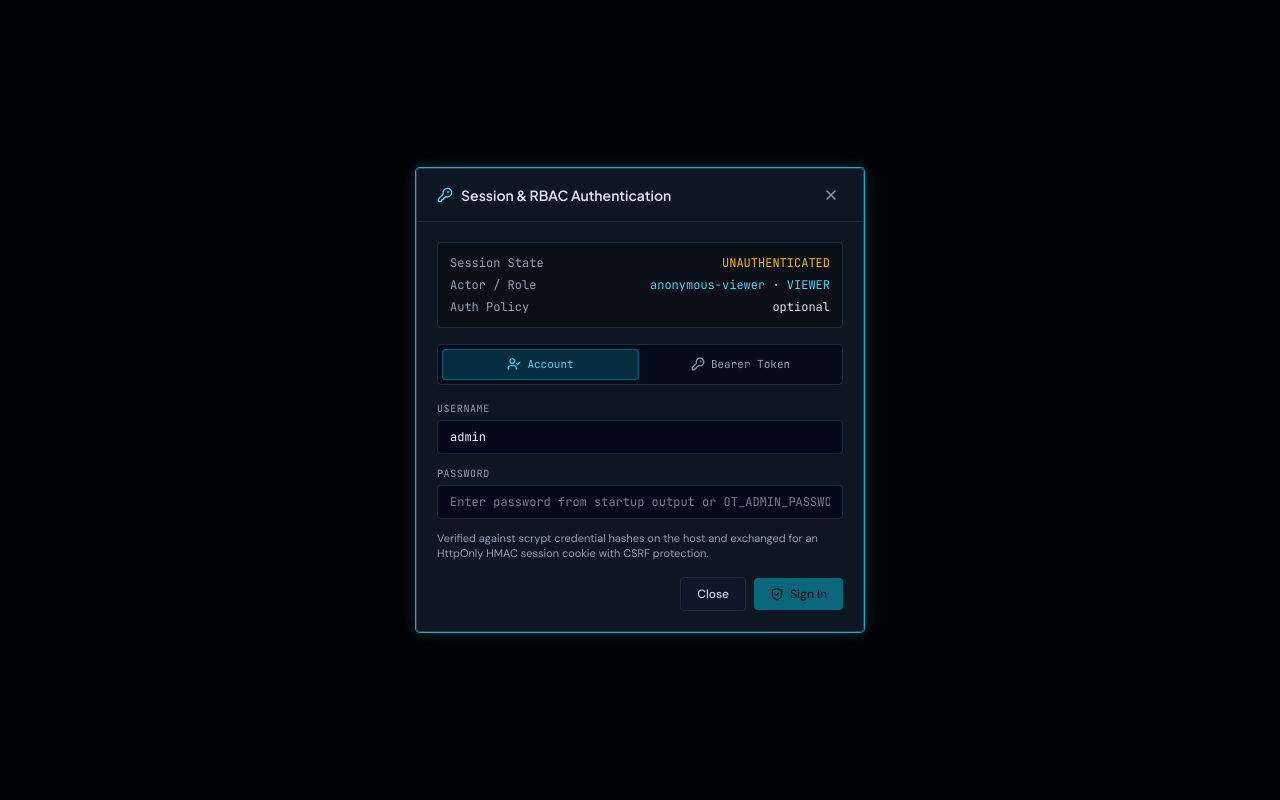
Frontend Component Verification › renders AuthModal with Account credentials and Bearer Token sign-in options
This screenshot has width=1280, height=800.
Later steps or results of the test are not shown.
Step 1. Type "pass-123" into the password field labelled "Password" → {"x": 640, "y": 502}, box x1=437 y1=485 x2=843 y2=519
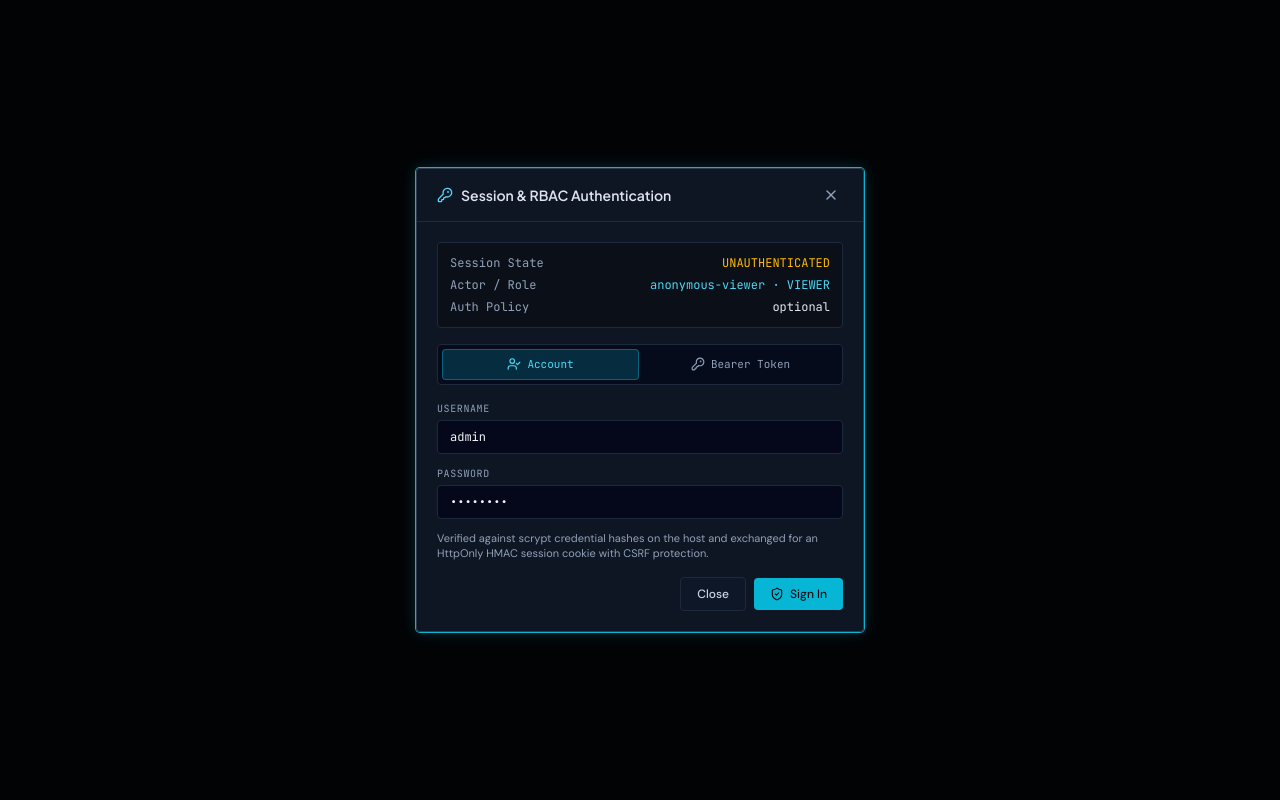
Step 2. Click the button "Sign In" → {"x": 798, "y": 594}, box x1=754 y1=578 x2=843 y2=610
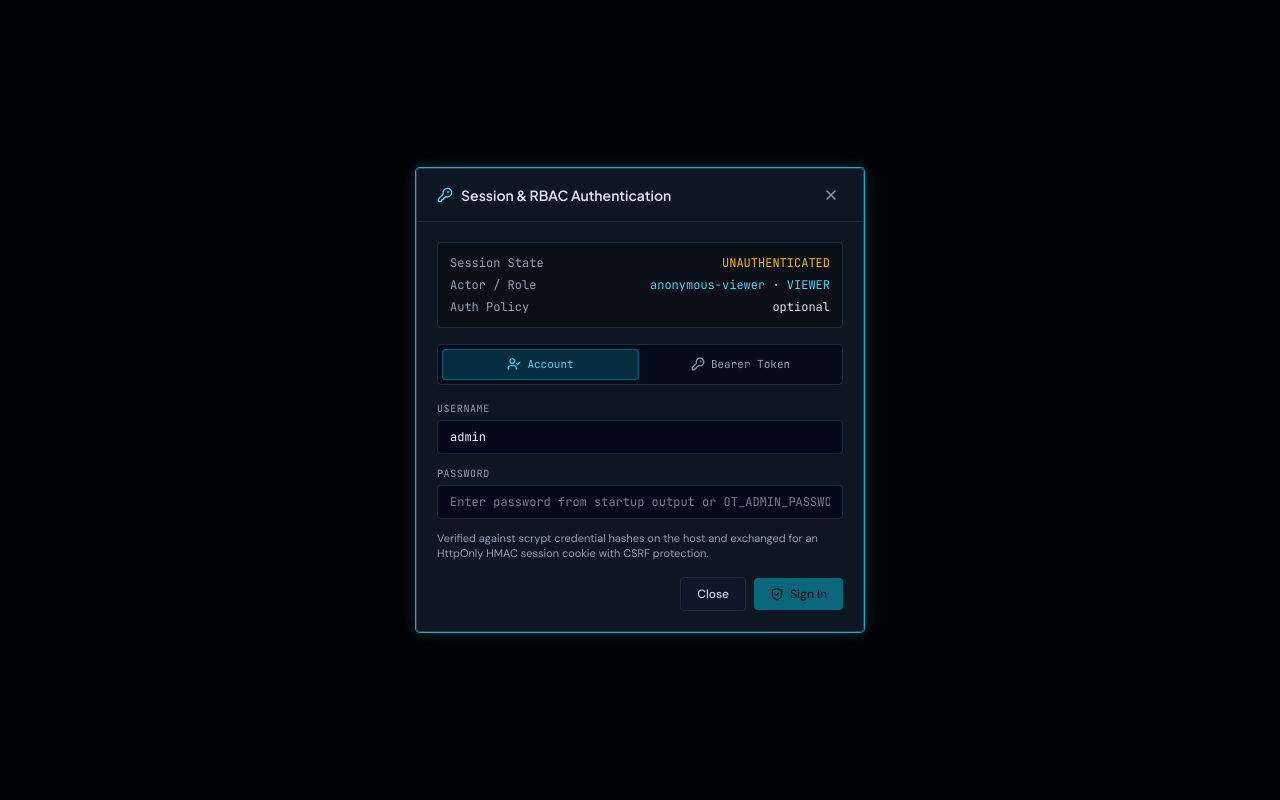
Step 3. Click the button "Bearer Token" → {"x": 740, "y": 364}, box x1=643 y1=350 x2=838 y2=379
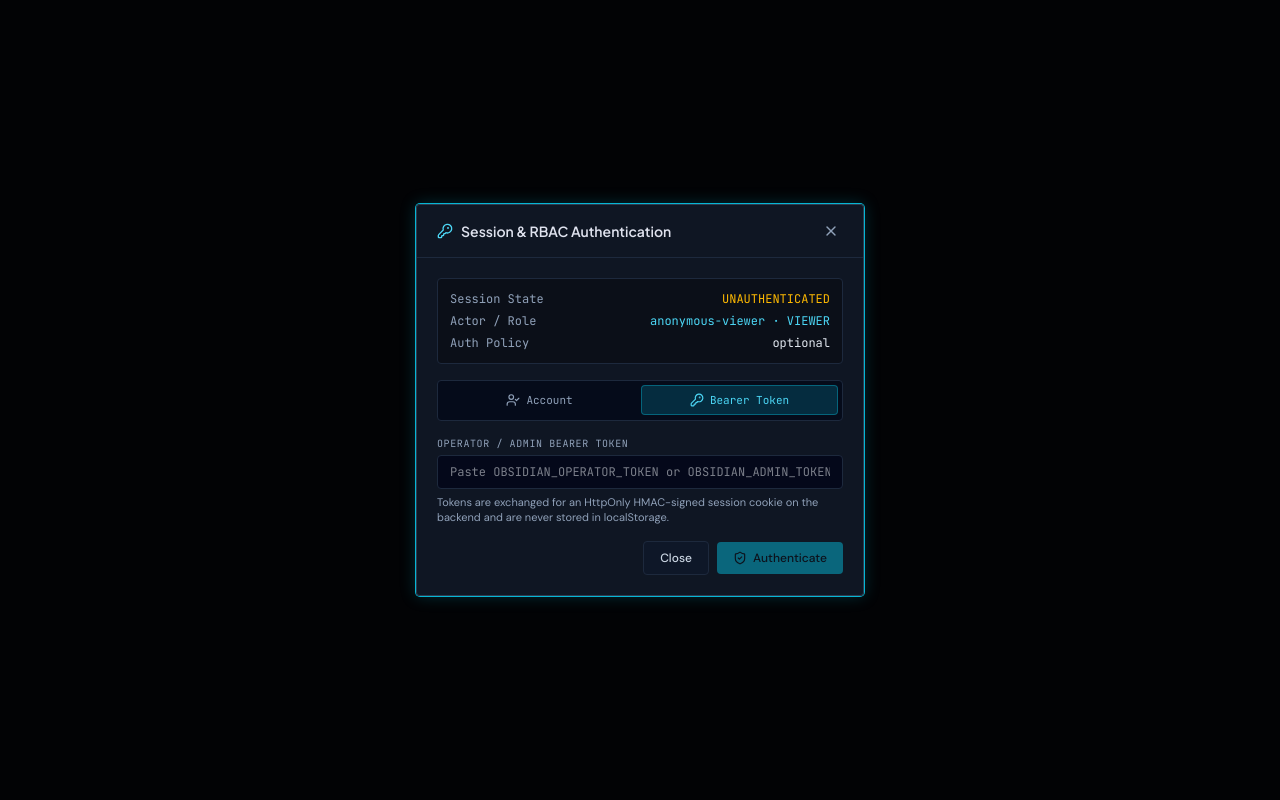
Step 4. Type "tok-xyz" into the password field labelled "Operator / Admin Bearer Token" → {"x": 640, "y": 472}, box x1=437 y1=455 x2=843 y2=489
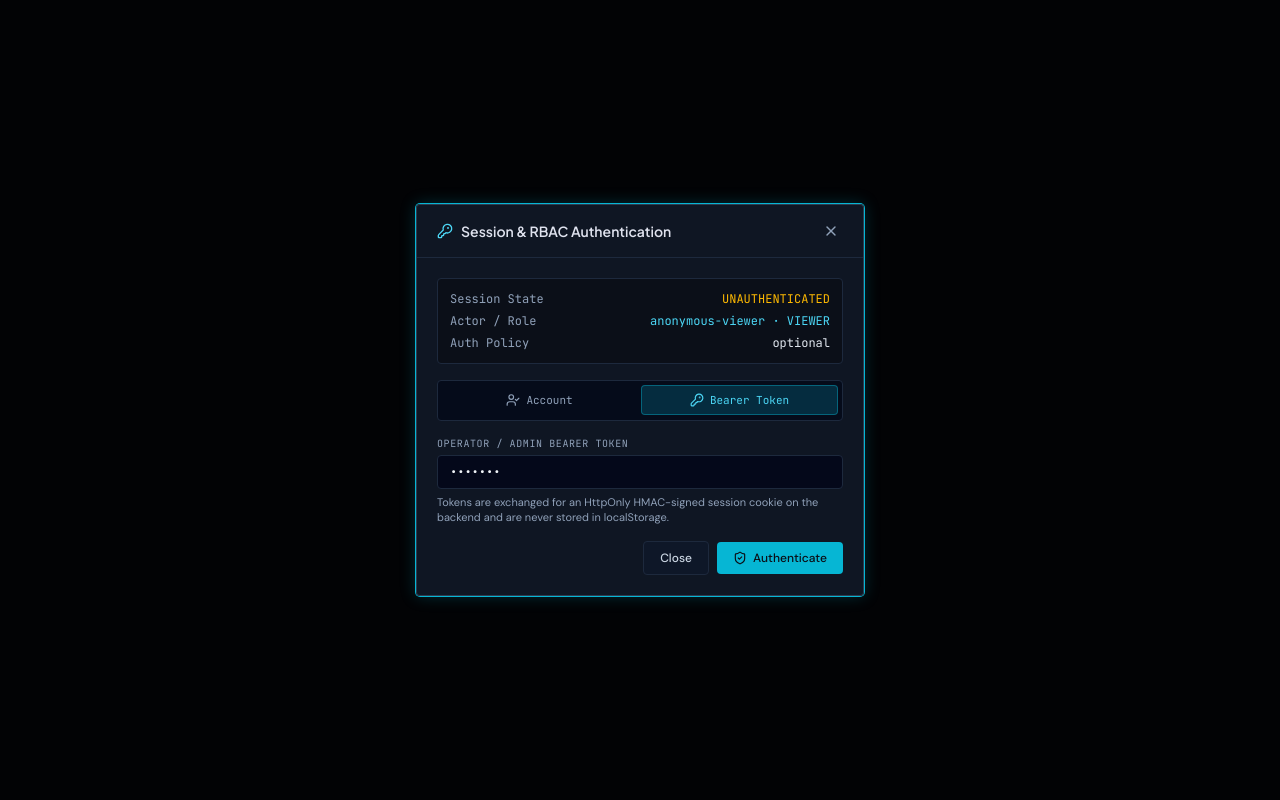
Result: the button "Authenticate" is enabled at x1=717 y1=542 x2=843 y2=574
